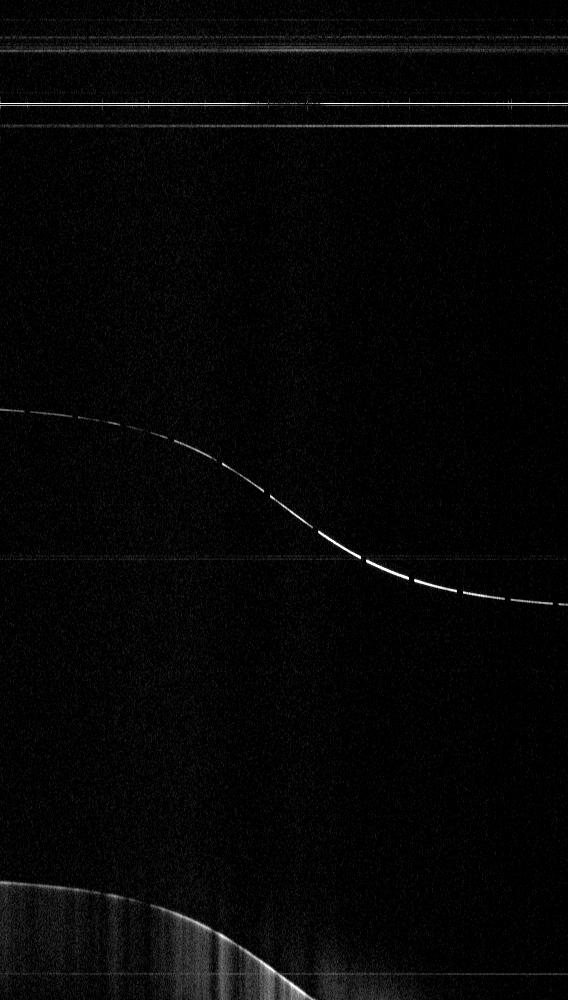signal: (0, 0, 567, 999)
